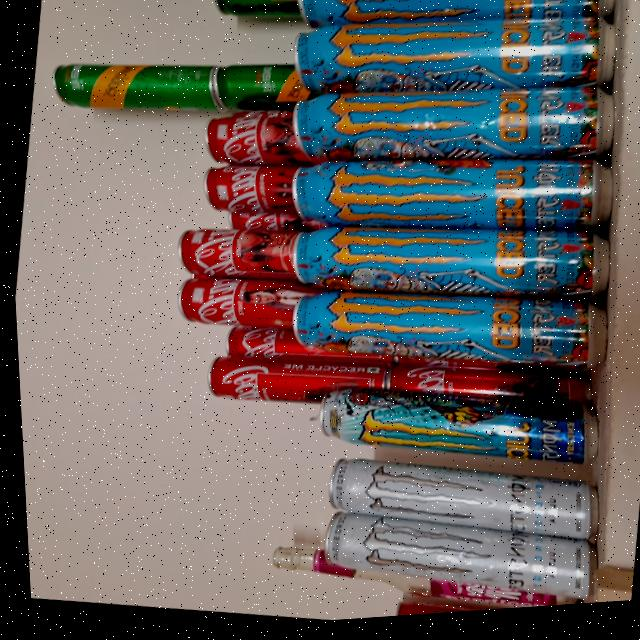Coca Cola: (394, 353, 560, 391), (390, 601, 567, 621)
Coca Cola - Marvel: (386, 360, 584, 422), (166, 272, 291, 340), (175, 222, 291, 289), (211, 351, 326, 415), (199, 158, 297, 222), (206, 114, 291, 171), (225, 324, 297, 368)
Monster Aussie Lemonade: (314, 376, 596, 486)
Monster Mango Loco: (298, 62, 604, 200), (298, 0, 611, 129), (307, 135, 590, 264), (292, 269, 595, 388), (309, 204, 586, 330), (294, 0, 596, 65)
Schweppes: (59, 47, 216, 128), (211, 63, 302, 118), (205, 0, 304, 27)
White Monster: (322, 450, 595, 559), (328, 504, 584, 614)
